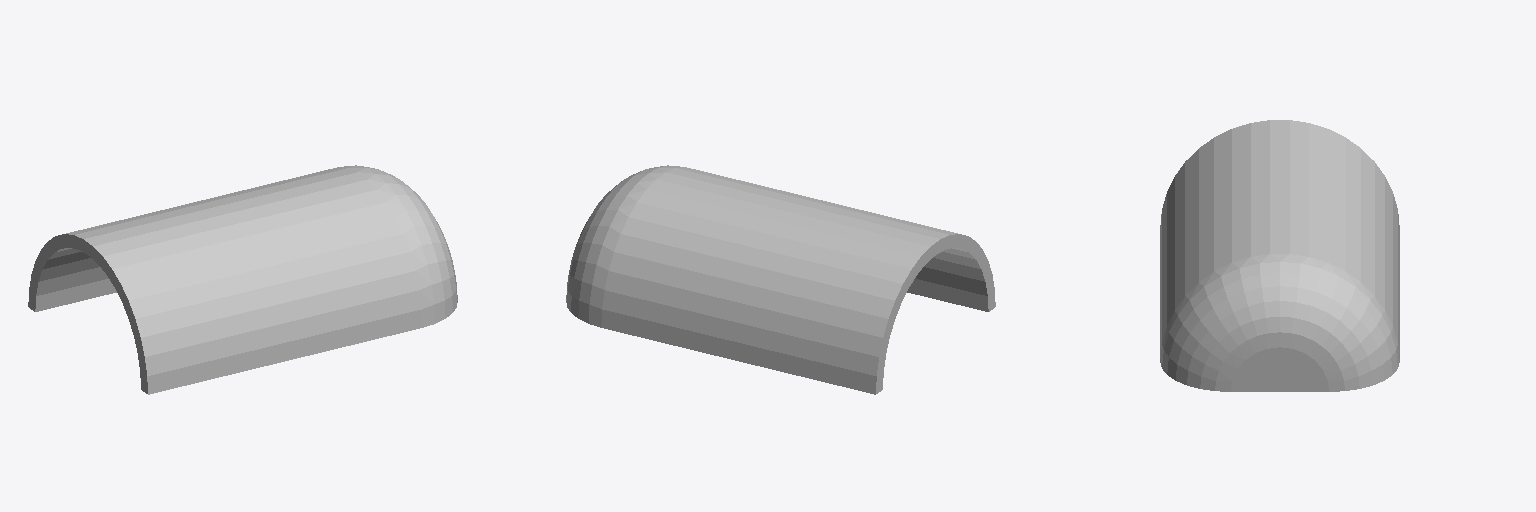
Rendered from DeadEnd.obj.
3 views of the same model, side by side, from view 1: azimuth 30°, elevation 25°; view 2: azimuth 150°, elevation 25°; view 3: azimuth 270°, elevation 25° (orthographic).
Visible parts, largest first — view 1: Body1; view 2: Body1; view 3: Body1.
Boxes of the visible parts, <box> form: Body1: <box>28,165,457,394</box>; Body1: <box>566,165,995,394</box>; Body1: <box>1160,120,1399,391</box>.
Bounding box in the file's own units: 27.5 × 8.47 × 17.